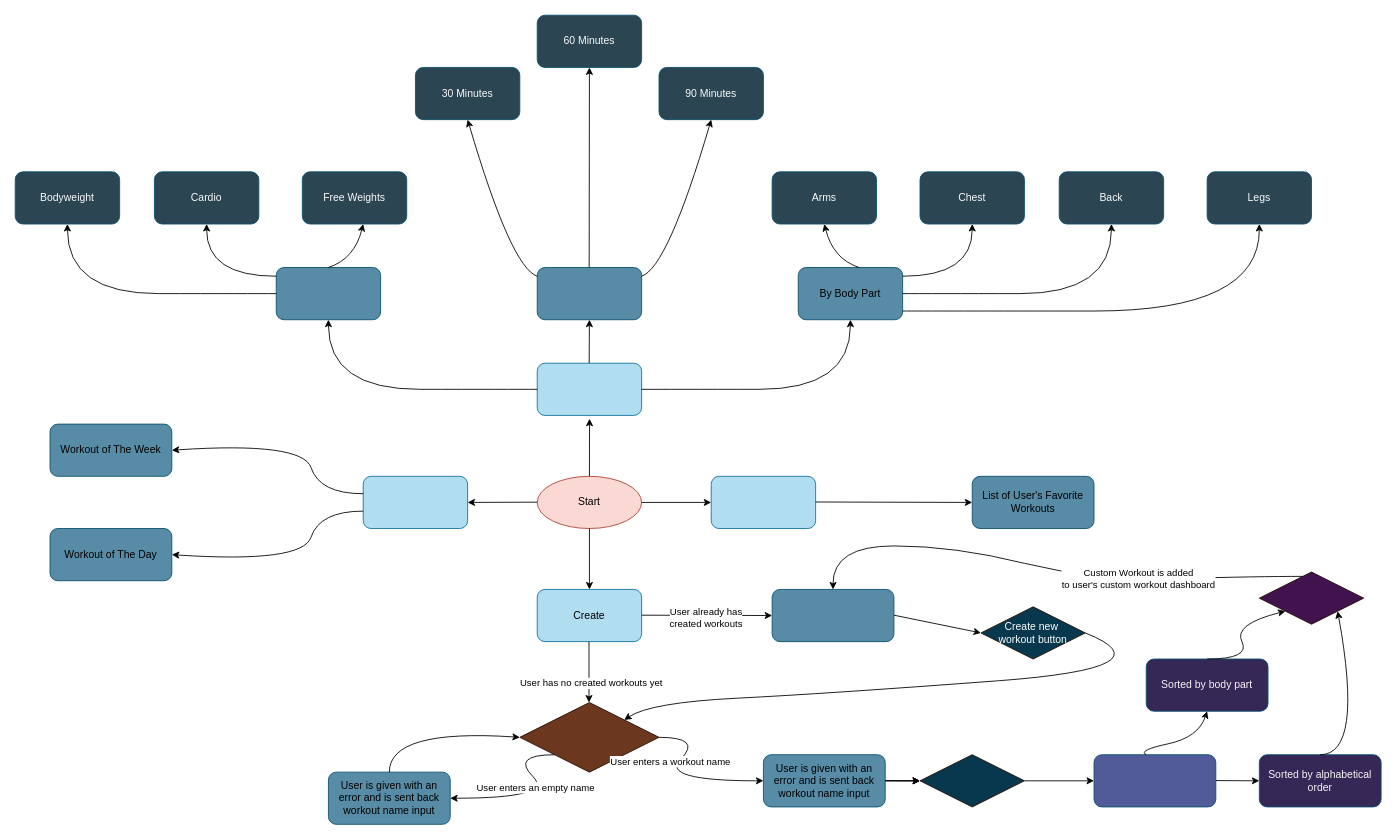
Image size: 1396x840. Some labels were removed from this diagram. The centre of each missing label's shape, as x and y in pixels:
Add selected exercises: pixel 1311 597
Add workout button: pixel 971 780
By Duration: pixel 589 293
By Workout Type: pixel 328 293
Displays a dashboard of user's created workouts: pixel 832 615
Favorites: pixel 763 502
Featured: pixel 415 502
List of all workouts: pixel 1154 780
Prompts user to enter a custom workout name: pixel 589 737
Workouts: pixel 589 388
